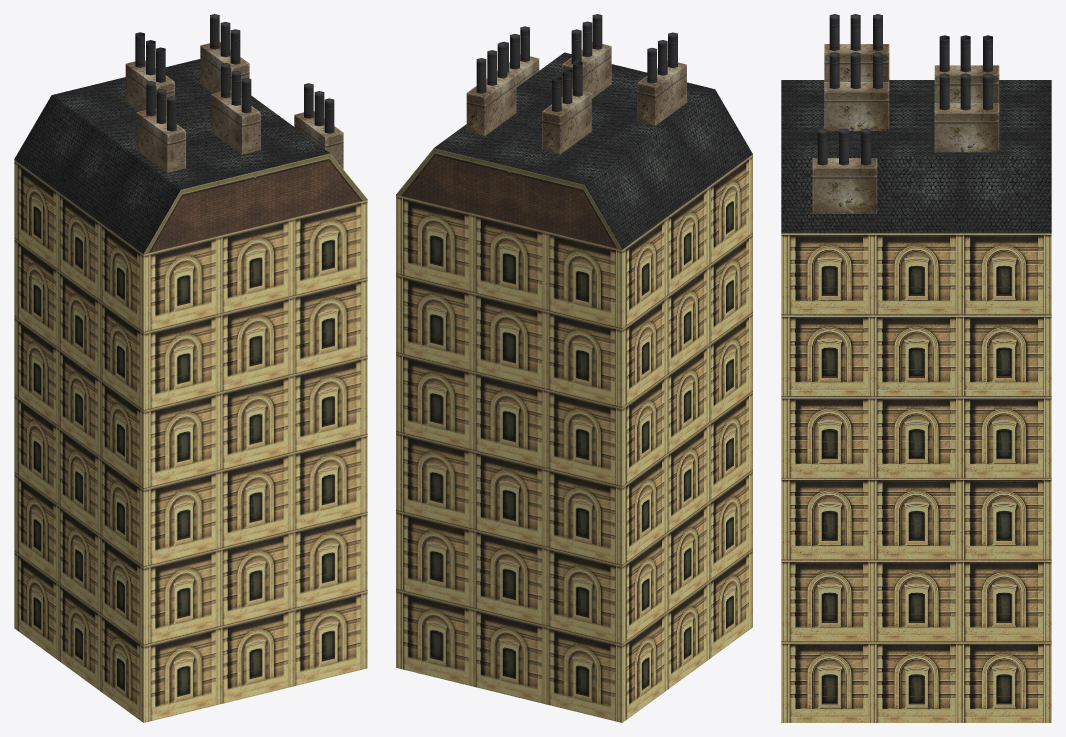
File: Building5.FBX
The picture shows the model from 3 angles, left to right: view 1: azimuth 30°, elevation 25°; view 2: azimuth 150°, elevation 25°; view 3: azimuth 270°, elevation 25°; orthographic projection. The views are drawn at different scales.
Visible parts, largest first — view 1: Building5; view 2: Building5; view 3: Building5.
Part boxes in pixels (box(x1,y1,x2,y2)): Building5: box(14, 14, 367, 722); Building5: box(396, 14, 752, 722); Building5: box(781, 14, 1051, 722).
Bounding box in the file's own units: 1200 × 3033 × 1200.
